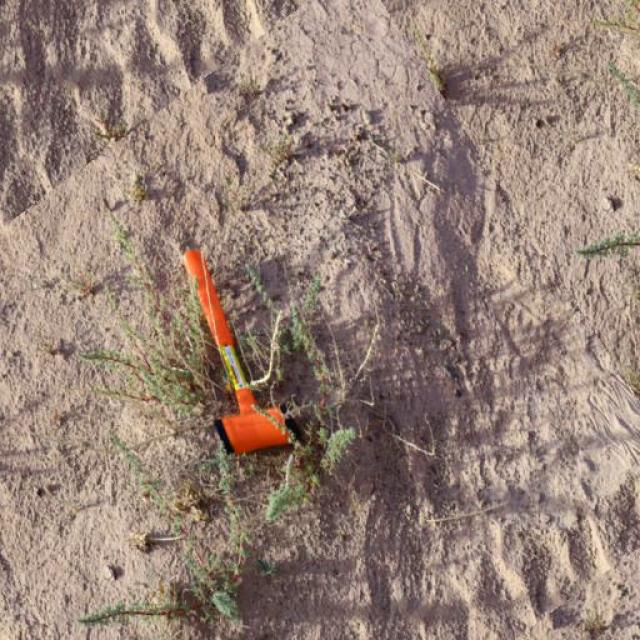mallet: (181, 246, 299, 456)
